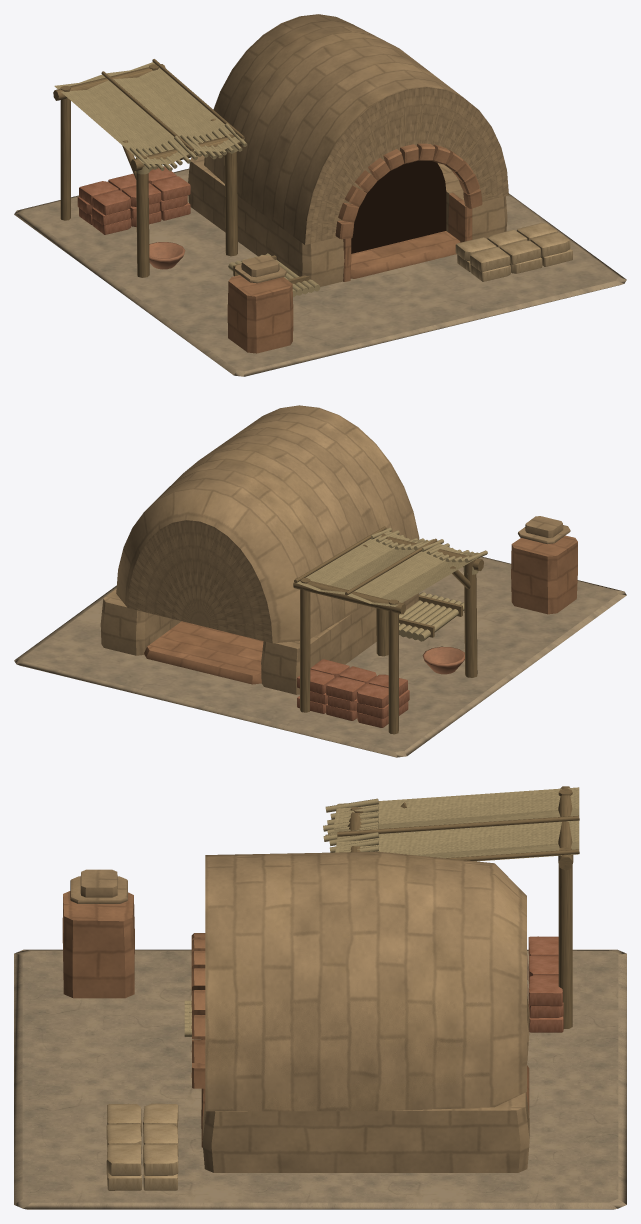
Rendered from kiln.glb.
3 views of the same model, one above another, from view 1: azimuth 30°, elevation 25°; view 2: azimuth 150°, elevation 25°; view 3: azimuth 270°, elevation 25° (orthographic). The views are drawn at different scales.
Parts seen in each view (by area): view 1: original-kiln-game-raw-brick-facing, original-kiln-alluvial-earth, original-kiln-game-fired-brick-facing, original-kiln-reed-mat, original-kiln-handmade-yard-craft, original-kiln-worn-timber, original-kiln-game-door-shadow, workshop-kiln-courtyard-pottery; view 2: original-kiln-game-raw-brick-facing, original-kiln-alluvial-earth, original-kiln-game-fired-brick-facing, original-kiln-reed-mat, original-kiln-worn-timber, original-kiln-handmade-yard-craft, workshop-kiln-courtyard-pottery; view 3: original-kiln-game-raw-brick-facing, original-kiln-alluvial-earth, original-kiln-reed-mat, original-kiln-game-fired-brick-facing, original-kiln-handmade-yard-craft, original-kiln-worn-timber.
Boxes of the visible parts, x1,y1,x2,y2 form: original-kiln-game-raw-brick-facing: [188, 14, 508, 286]; original-kiln-alluvial-earth: [14, 168, 626, 376]; original-kiln-game-fired-brick-facing: [227, 143, 482, 353]; original-kiln-reed-mat: [54, 62, 320, 296]; original-kiln-handmade-yard-craft: [77, 166, 572, 281]; original-kiln-worn-timber: [53, 59, 309, 284]; original-kiln-game-door-shadow: [351, 161, 446, 253]; workshop-kiln-courtyard-pottery: [149, 242, 185, 269]; original-kiln-game-raw-brick-facing: [100, 405, 570, 694]; original-kiln-alluvial-earth: [14, 556, 626, 757]; original-kiln-game-fired-brick-facing: [144, 535, 577, 684]; original-kiln-reed-mat: [296, 527, 487, 641]; original-kiln-worn-timber: [293, 526, 483, 734]; original-kiln-handmade-yard-craft: [297, 659, 409, 727]; workshop-kiln-courtyard-pottery: [422, 646, 464, 674]; original-kiln-game-raw-brick-facing: [70, 851, 529, 1172]; original-kiln-alluvial-earth: [14, 949, 626, 1209]; original-kiln-reed-mat: [184, 787, 579, 1036]; original-kiln-game-fired-brick-facing: [62, 891, 529, 1147]; original-kiln-handmade-yard-craft: [106, 936, 563, 1190]; original-kiln-worn-timber: [337, 786, 579, 1028].
Bounding box in the file's own units: 5.37 × 2.39 × 5.37.
8 materials, 7 textured.
